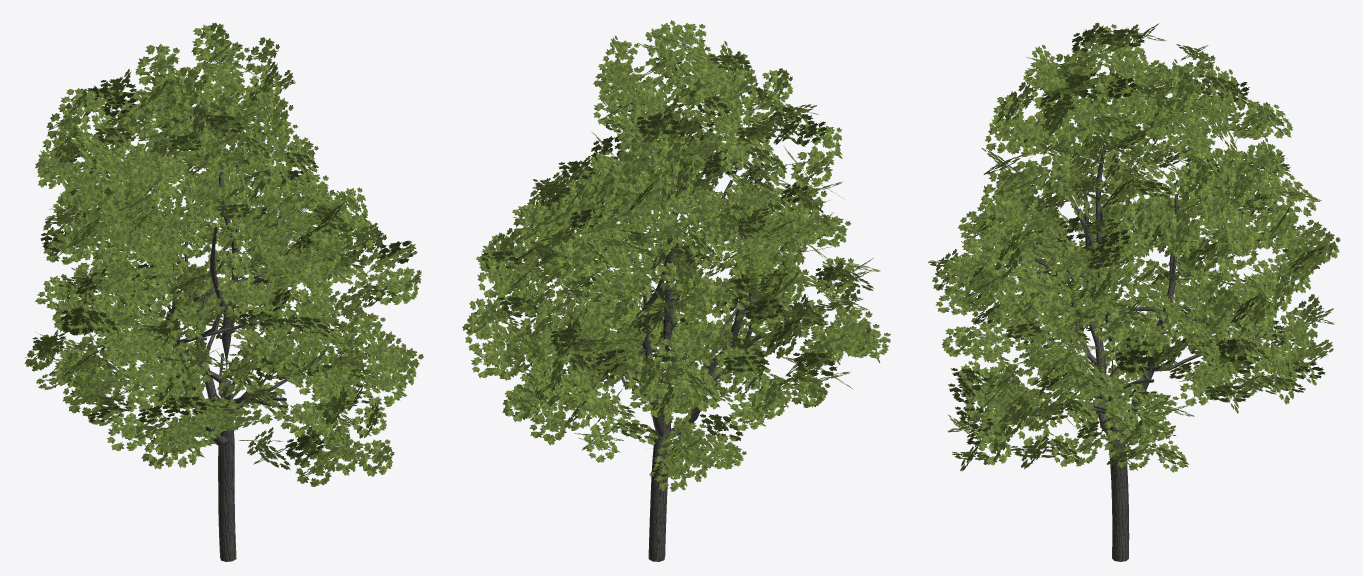
Rendered from sugar_maple_4_hero.obj.
3 renders of one model, left to right at view 1: azimuth 30°, elevation 25°; view 2: azimuth 150°, elevation 25°; view 3: azimuth 270°, elevation 25°, orthographic.
Parts seen in each view (by area): view 1: Leaves, Trunk, Branches; view 2: Leaves, Trunk, Branches; view 3: Leaves, Branches, Trunk.
Part boxes in pixels (x1,y1,x2,y2): Leaves: [24, 22, 423, 486]; Trunk: [200, 161, 238, 561]; Branches: [152, 197, 292, 446]; Leaves: [462, 20, 890, 491]; Trunk: [648, 144, 687, 561]; Branches: [592, 180, 763, 436]; Leaves: [928, 22, 1340, 472]; Branches: [1023, 178, 1202, 434]; Trunk: [1095, 145, 1129, 561].
Bounding box in the file's own units: 30.27 × 40.76 × 29.7.
Materials: 2 (2 with a texture image).
